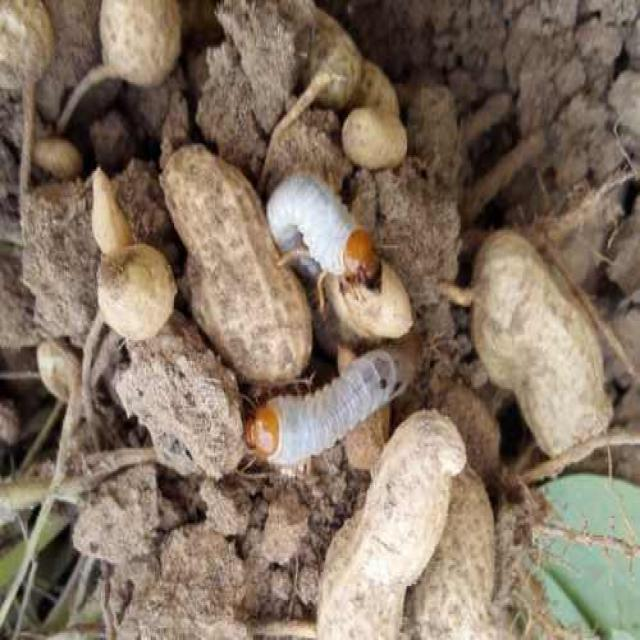Grub-Adult-: (219, 335, 432, 478), (233, 156, 392, 312)
